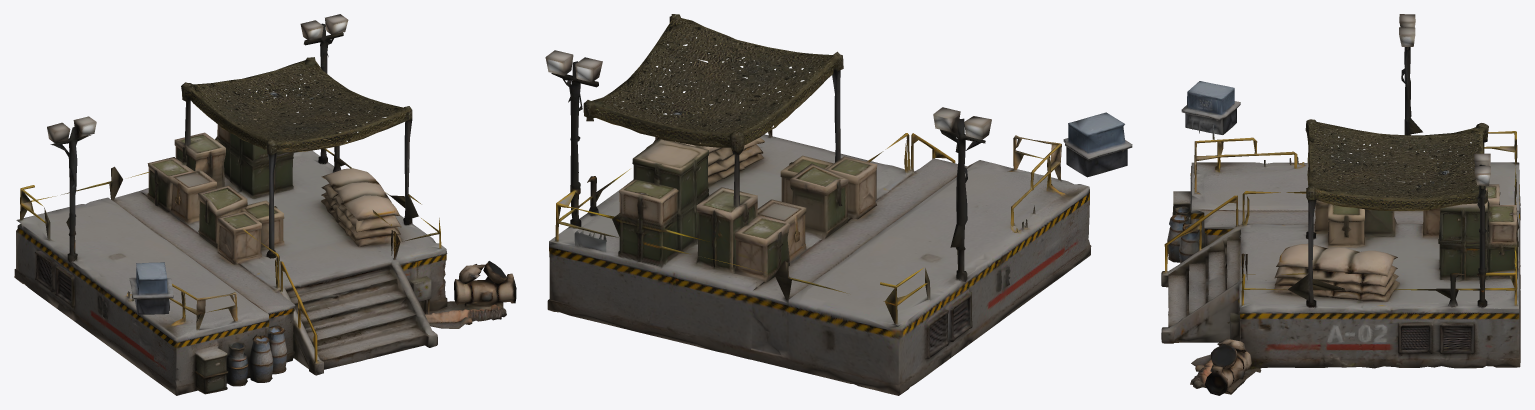
3 renders of one model, left to right at view 1: azimuth 30°, elevation 25°; view 2: azimuth 150°, elevation 25°; view 3: azimuth 270°, elevation 25°, orthographic. The views are drawn at different scales.
Parts seen in each view (by area): view 1: tripo_node_b5b32867-c004-4a8b-b86a-af5b1e765a0e; view 2: tripo_node_b5b32867-c004-4a8b-b86a-af5b1e765a0e; view 3: tripo_node_b5b32867-c004-4a8b-b86a-af5b1e765a0e.
Part boxes in pixels (x1=…): tripo_node_b5b32867-c004-4a8b-b86a-af5b1e765a0e: x1=14, y1=14, x2=516, y2=395; tripo_node_b5b32867-c004-4a8b-b86a-af5b1e765a0e: x1=545, y1=14, x2=1132, y2=395; tripo_node_b5b32867-c004-4a8b-b86a-af5b1e765a0e: x1=1161, y1=14, x2=1520, y2=395.
Size of the model in its own units: 1 by 0.4894 by 0.7757.
Materials: 1 (1 with a texture image).
